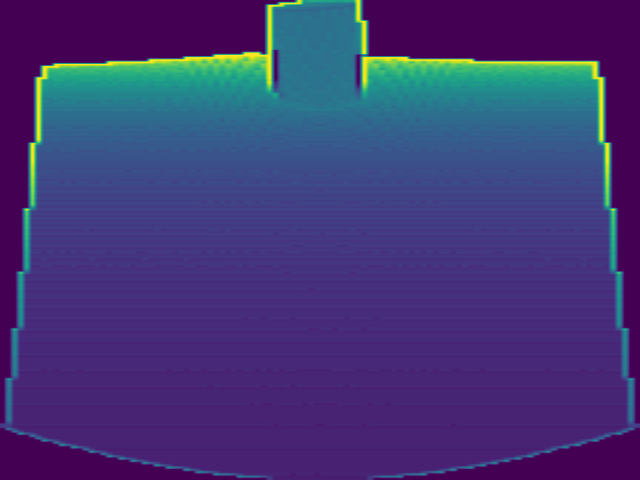cylinder: (263, 1, 369, 109)
